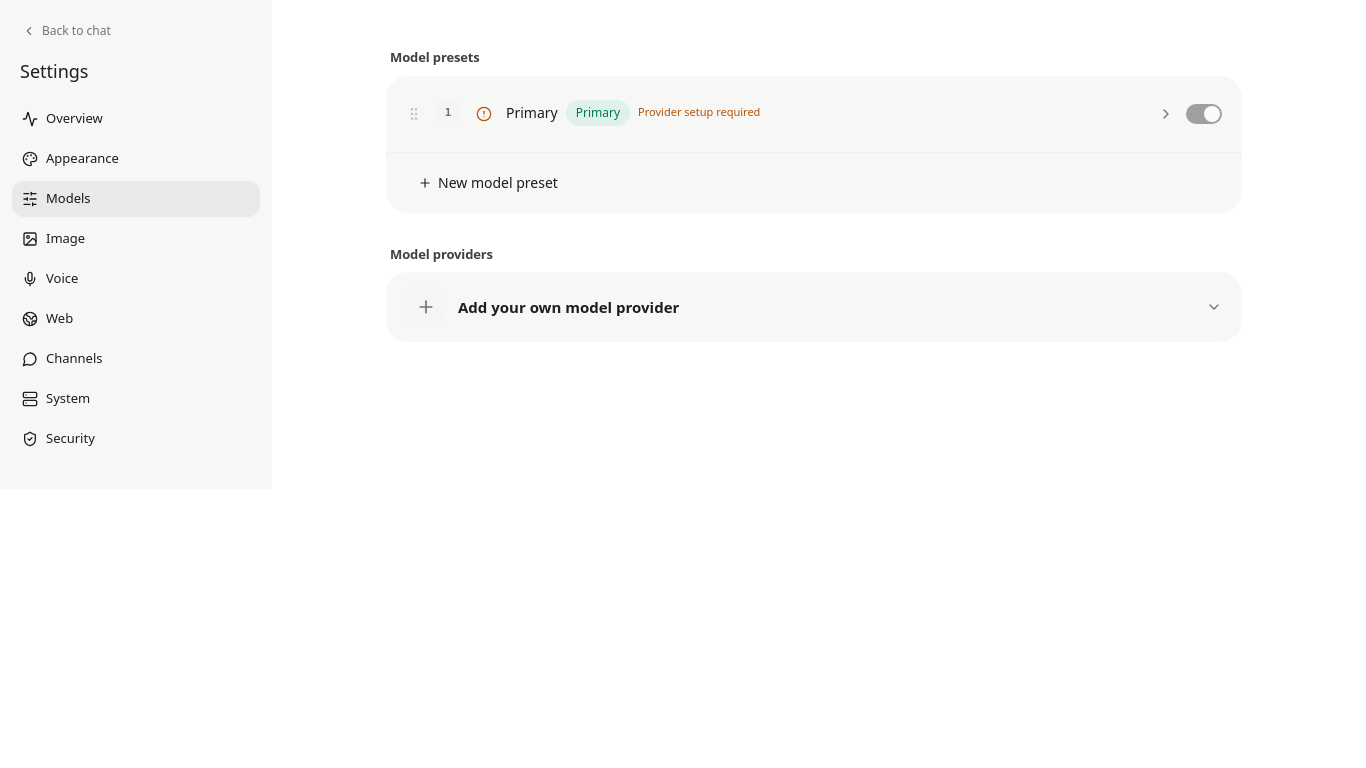
Scenario: Settings models › does not fetch model lists for unsigned OAuth providers
The width and height of the screenshot is (1366, 768).
Click the button "1 Primary Primary Provider setup required" at (532, 112), box [434,100,1174,128]
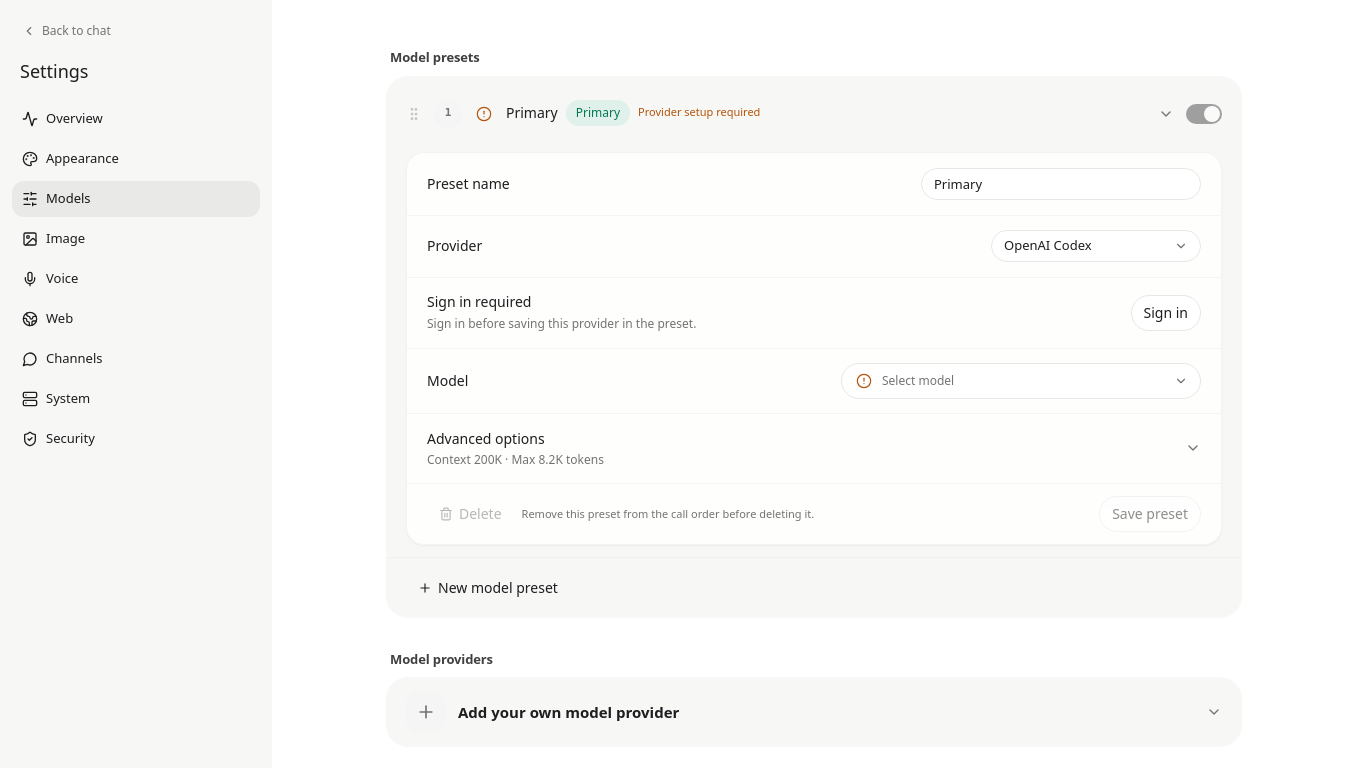
Click the button "Select model" at (918, 380), box [841,362,1201,398]
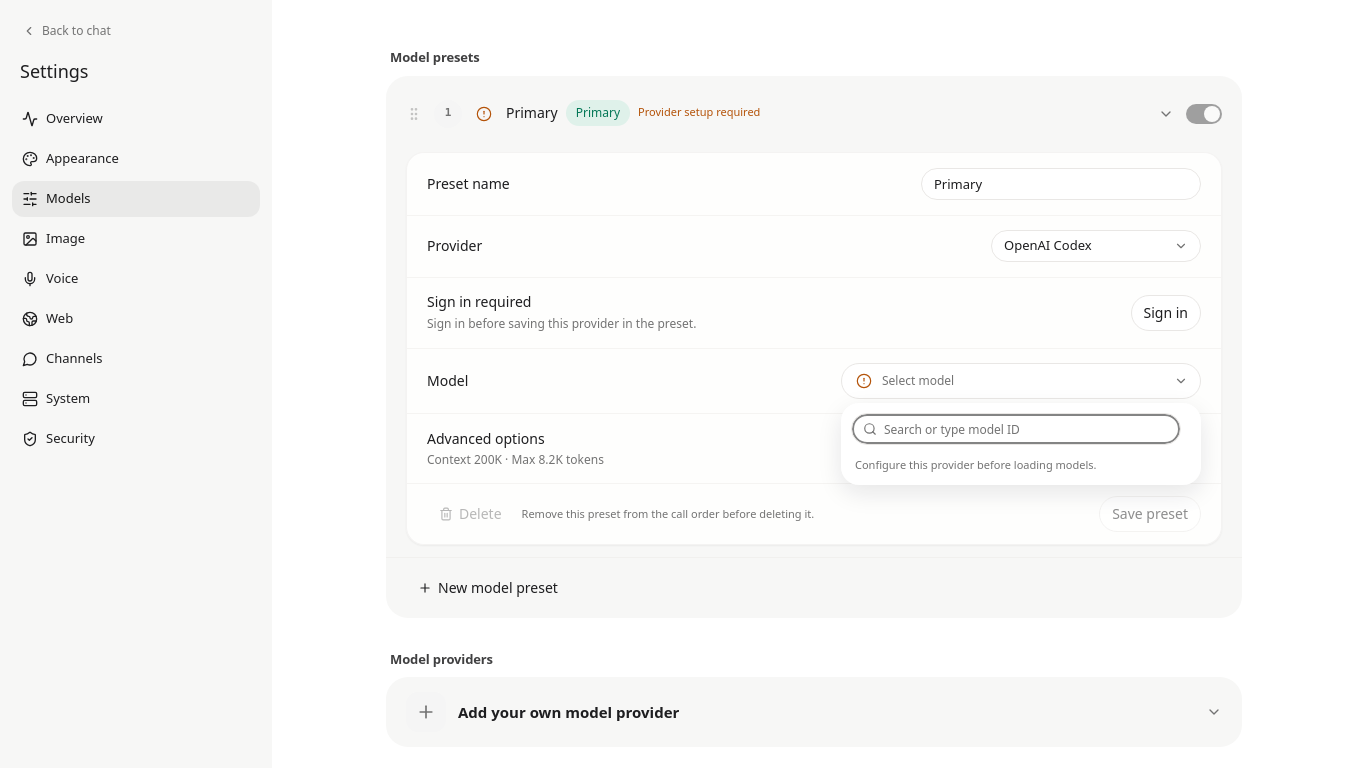
expect the text "Configure this provider before loading models." is shown: met, box [855,457,1096,472]
